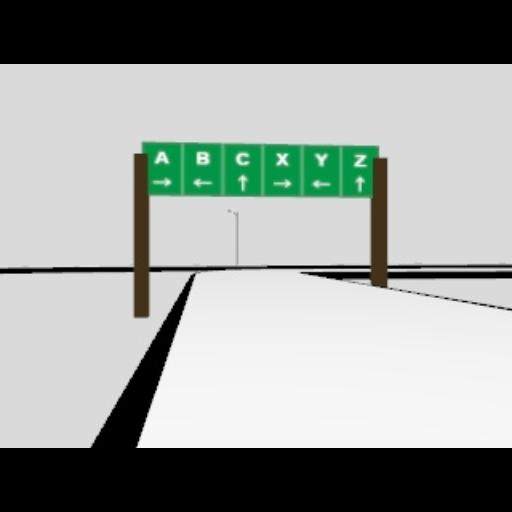A: (154, 150, 170, 164)
B: (195, 151, 209, 165)
C: (235, 151, 249, 165)
Left: (191, 177, 213, 187), (310, 179, 332, 187)
Right: (272, 177, 292, 187), (152, 178, 172, 186)
Straight: (236, 173, 248, 191), (354, 174, 364, 192)
X: (276, 152, 288, 164)
Y: (314, 152, 328, 166)
Z: (352, 152, 366, 166)
